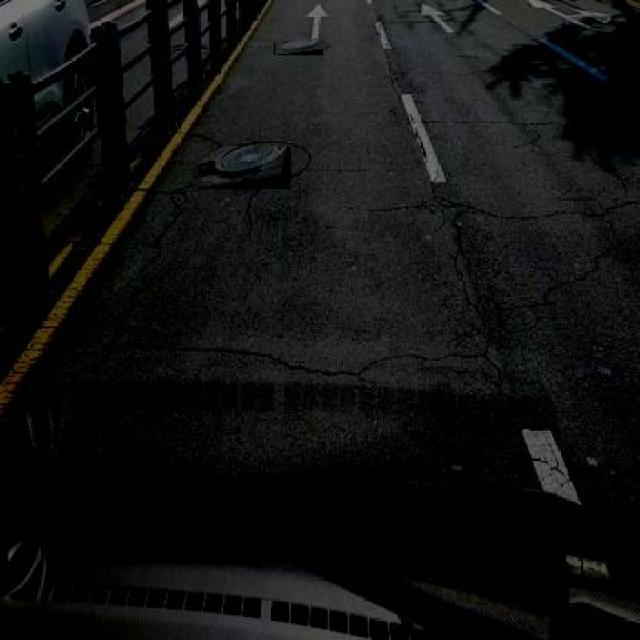Manhole: (198, 146, 291, 189), (273, 40, 324, 56)
